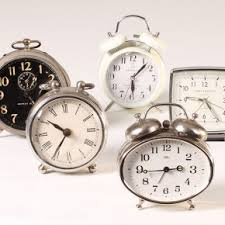alarm_clock: (5, 20, 214, 205)
